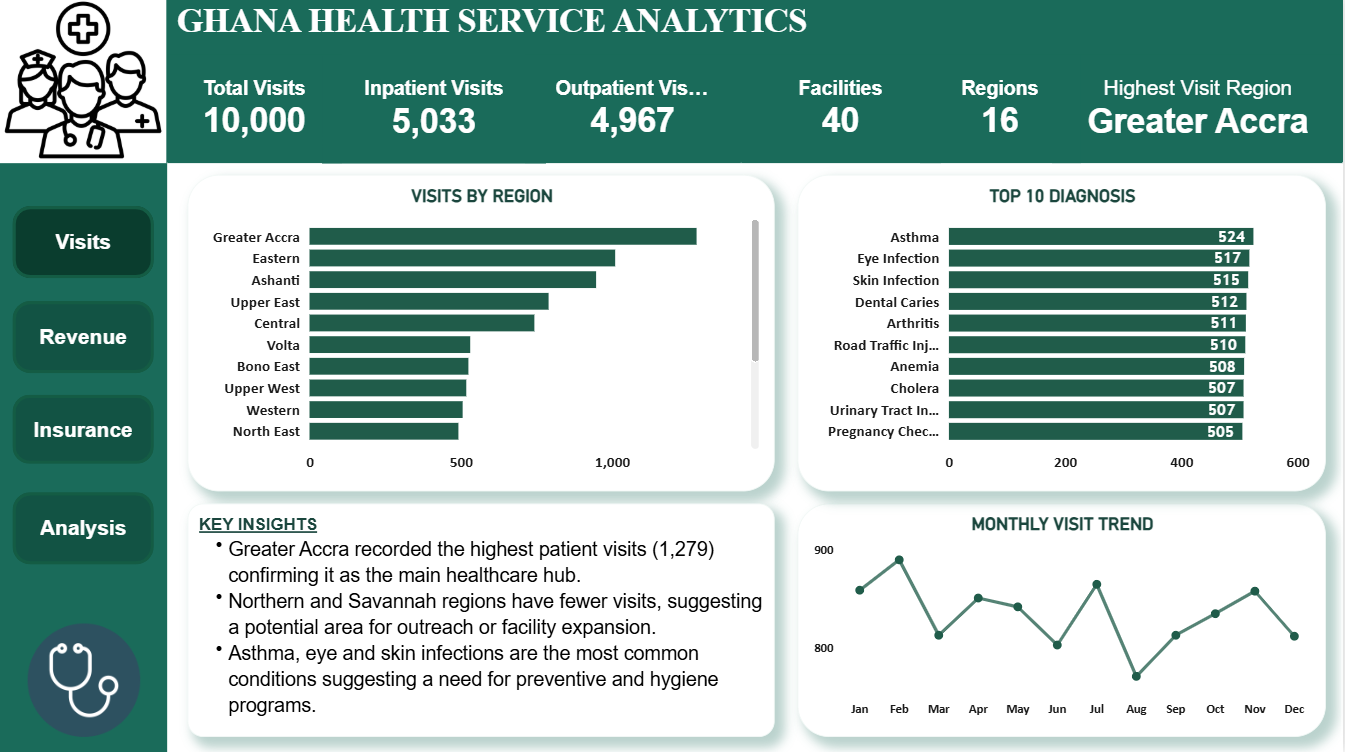

The page's visual inventory and layout, read from the dashboard file:
{"tool":"powerbi","page":{"name":"Visits overview","canvas":[1280,720],"ordinal":0},"visuals":[{"type":"shape","box":[0,0,1280,158.5],"z":0},{"type":"textbox","box":[158.3,0,1121.4,107.1],"z":1000},{"type":"cardVisual","fields":{"Data":["Measures (2).Total Visits"]},"box":[159.2,55.7,165.9,103.5],"z":2000},{"type":"lineChart","title":"MONTHLY VISIT TREND","fields":{"Category":["Date Table.Quarter","Date Table.Month","Date Table.Year"],"Y":["Measures (2).Total Visits"]},"box":[759.5,483.4,503.1,222.1],"z":3000},{"type":"clusteredBarChart","title":"VISITS BY REGION","fields":{"Category":["Patient Visits.Region"],"Y":["Measures (2).Total Visits"]},"box":[179.1,170.6,559.5,301.8],"z":4000},{"type":"clusteredBarChart","title":"TOP 10 DIAGNOSIS","fields":{"Category":["Patient Visits.Diagnosis"],"Y":["Measures (2).Total Visits"]},"box":[759.5,170.6,503.1,301.8],"z":5000},{"type":"shape","box":[0,133.7,159.5,587],"z":6000},{"type":"actionButton","box":[12,200.4,134.6,68.8],"z":7000},{"type":"actionButton","box":[12,379.8,134.6,65.8],"z":8000},{"type":"actionButton","box":[12,290.1,134.6,68.8],"z":9000},{"type":"image","box":[0,0,158.3,159.5],"z":10000},{"type":"actionButton","box":[12,472.5,134.6,68.8],"z":11000},{"type":"textbox","box":[179.1,483.4,559.5,222.1],"z":12000},{"type":"cardVisual","fields":{"Data":["Measures (2).Highest Vist Region"]},"box":[1003,55.7,277.2,103.5],"z":13000},{"type":"cardVisual","fields":{"Data":["Measures (2).Inpatient Visits"]},"box":[307.2,56.8,212.6,102.4],"z":14000},{"type":"cardVisual","fields":{"Data":["Measures (2).Outpatient Visits"]},"box":[499.8,55.7,205.9,103.5],"z":15000},{"type":"cardVisual","fields":{"Data":["Measures (2).Region Count"]},"box":[876.1,55.7,152.5,103.5],"z":16000},{"type":"cardVisual","fields":{"Data":["CountNonNull(Facility Directory.Facility_Name)"]},"box":[705.8,55.7,189.2,103.5],"z":17000},{"type":"image","box":[9,598.1,140.6,107.7],"z":18000}]}

Visuals, with their boxes in screenshot pixels (x1, y1, x2, y2), scaled from the page's 1280x720 canvas onto the 1345x752 screenshot:
shape: [x1=0, y1=0, x2=1344, y2=166]
textbox: [x1=166, y1=0, x2=1344, y2=112]
cardVisual - Measures (2).Total Visits: [x1=167, y1=58, x2=342, y2=166]
"MONTHLY VISIT TREND" lineChart: [x1=798, y1=505, x2=1327, y2=737]
"VISITS BY REGION" clusteredBarChart: [x1=188, y1=178, x2=776, y2=493]
"TOP 10 DIAGNOSIS" clusteredBarChart: [x1=798, y1=178, x2=1327, y2=493]
shape: [x1=0, y1=140, x2=168, y2=751]
actionButton: [x1=13, y1=209, x2=154, y2=281]
actionButton: [x1=13, y1=397, x2=154, y2=465]
actionButton: [x1=13, y1=303, x2=154, y2=375]
image: [x1=0, y1=0, x2=166, y2=167]
actionButton: [x1=13, y1=494, x2=154, y2=565]
textbox: [x1=188, y1=505, x2=776, y2=737]
cardVisual - Measures (2).Highest Vist Region: [x1=1054, y1=58, x2=1344, y2=166]
cardVisual - Measures (2).Inpatient Visits: [x1=323, y1=59, x2=546, y2=166]
cardVisual - Measures (2).Outpatient Visits: [x1=525, y1=58, x2=742, y2=166]
cardVisual - Measures (2).Region Count: [x1=921, y1=58, x2=1081, y2=166]
cardVisual - CountNonNull(Facility Directory.Facility_Name): [x1=742, y1=58, x2=940, y2=166]
image: [x1=9, y1=625, x2=157, y2=737]
